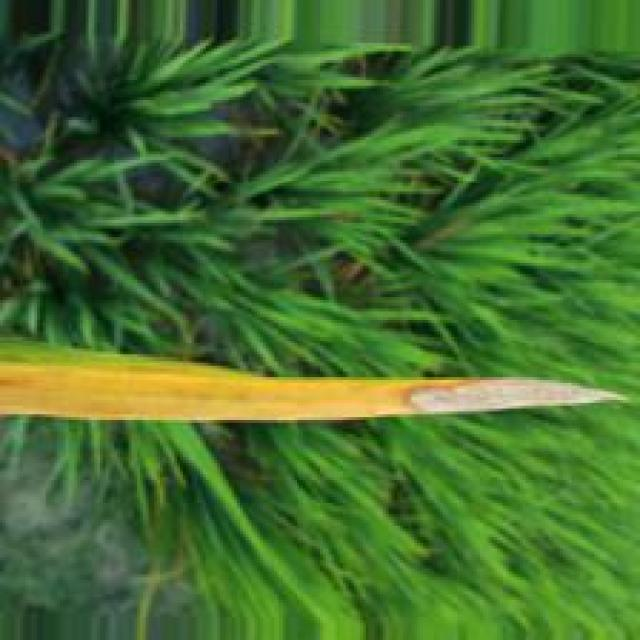Rice False Smut: (396, 380, 592, 413)
